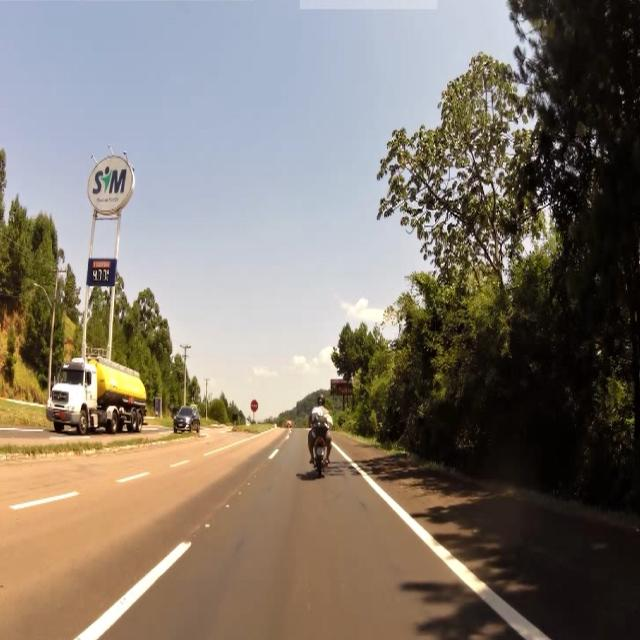R-1: (251, 399, 258, 413)
